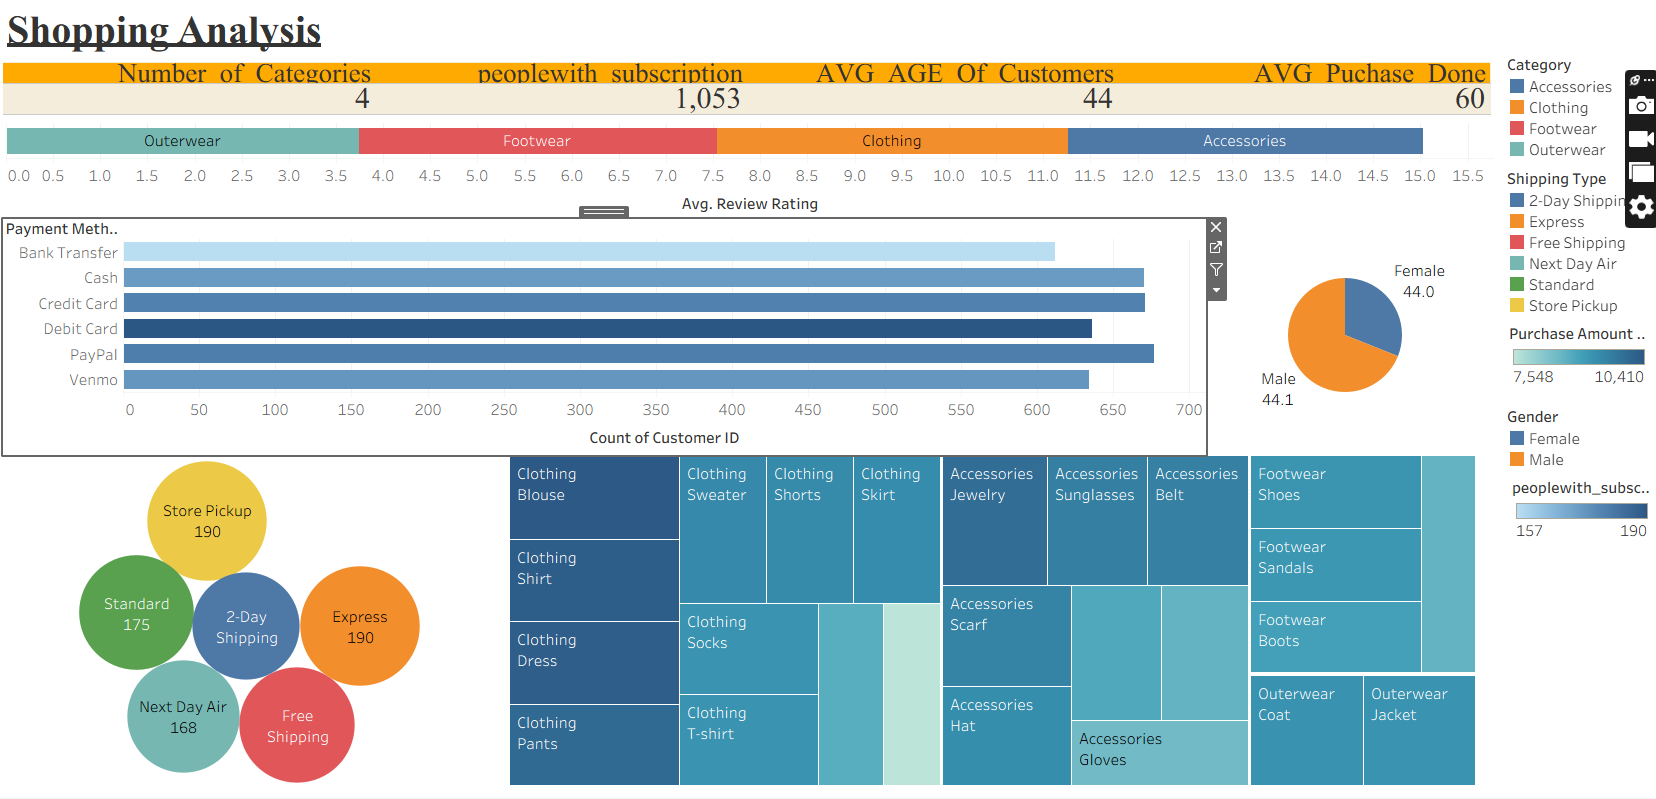

This screenshot's page, from the dashboard's own definition file:
{"tool":"tableau","page":{"name":"Dashboard 1","canvas":[1000,1000],"units":"permille","ordinal":0},"visuals":[{"type":"worksheet","title":"Sheet 1","mark":"Automatic","box":[2.6,7.5,897.8,139.8]},{"type":"legend","title":"Sheet 7","param":"[federated.090zymw1v487201f5okoh0h2jk11].[none:Category:nk]","box":[910.1,71.2,84.5,132.3]},{"type":"worksheet","title":"Sheet 7","mark":"Automatic","cols":["Review Rating"],"box":[4.2,157.3,898.3,122.4]},{"type":"legend","title":"Sheet 3","param":"[federated.090zymw1v487201f5okoh0h2jk11].[none:Shipping Type:nk]","box":[910.1,213.5,84.5,184.8]},{"type":"worksheet","title":"Sheet 4","mark":"Automatic","rows":["Payment Method"],"cols":["Customer ID"],"box":[2.4,277.2,726,294.6]},{"type":"worksheet","title":"Sheet 6","mark":"Pie","box":[732.6,279.7,159.3,284.6]},{"type":"legend","title":"Sheet 5","param":"[federated.090zymw1v487201f5okoh0h2jk11].[sum:Purchase Amount (USD):qk]","box":[911.3,407,84.5,109.9]},{"type":"legend","title":"Sheet 6","param":"[federated.090zymw1v487201f5okoh0h2jk11].[none:Gender:nk]","box":[910.1,510.6,84.5,79.9]},{"type":"worksheet","title":"Sheet 5","mark":"Automatic","box":[304.8,565.5,589,425.7]},{"type":"worksheet","title":"Sheet 3","mark":"Circle","box":[0,578,301.8,403.2]},{"type":"legend","title":"Sheet 4","param":"[federated.090zymw1v487201f5okoh0h2jk11].[sum:Calculation_485544389486206976:qk]","box":[913.1,599.2,84.5,109.9]}]}

Visuals, with their boxes on the dashboard's canvas, which has no fixed pixel size, in thousandths of its width and height (x1, y1, x2, y2). These are canvas units, not pixel positions in the 1656x799 screenshot, which may show the page scaled, cropped or inside an application window:
"Sheet 1" worksheet: BBox(3, 8, 900, 147)
"Sheet 7" legend: BBox(910, 71, 995, 204)
"Sheet 7" worksheet: BBox(4, 157, 902, 280)
"Sheet 3" legend: BBox(910, 214, 995, 398)
"Sheet 4" worksheet: BBox(2, 277, 728, 572)
"Sheet 6" worksheet (Pie marks): BBox(733, 280, 892, 564)
"Sheet 5" legend: BBox(911, 407, 996, 517)
"Sheet 6" legend: BBox(910, 511, 995, 590)
"Sheet 5" worksheet: BBox(305, 566, 894, 991)
"Sheet 3" worksheet (Circle marks): BBox(0, 578, 302, 981)
"Sheet 4" legend: BBox(913, 599, 998, 709)
